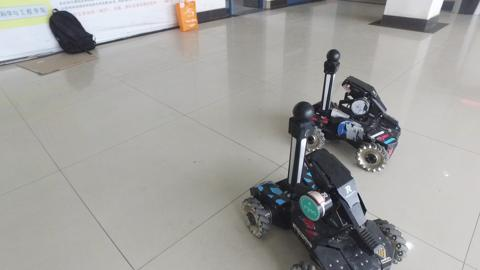bag: (42, 5, 100, 56)
chariot: (240, 99, 412, 270), (297, 46, 406, 180)
